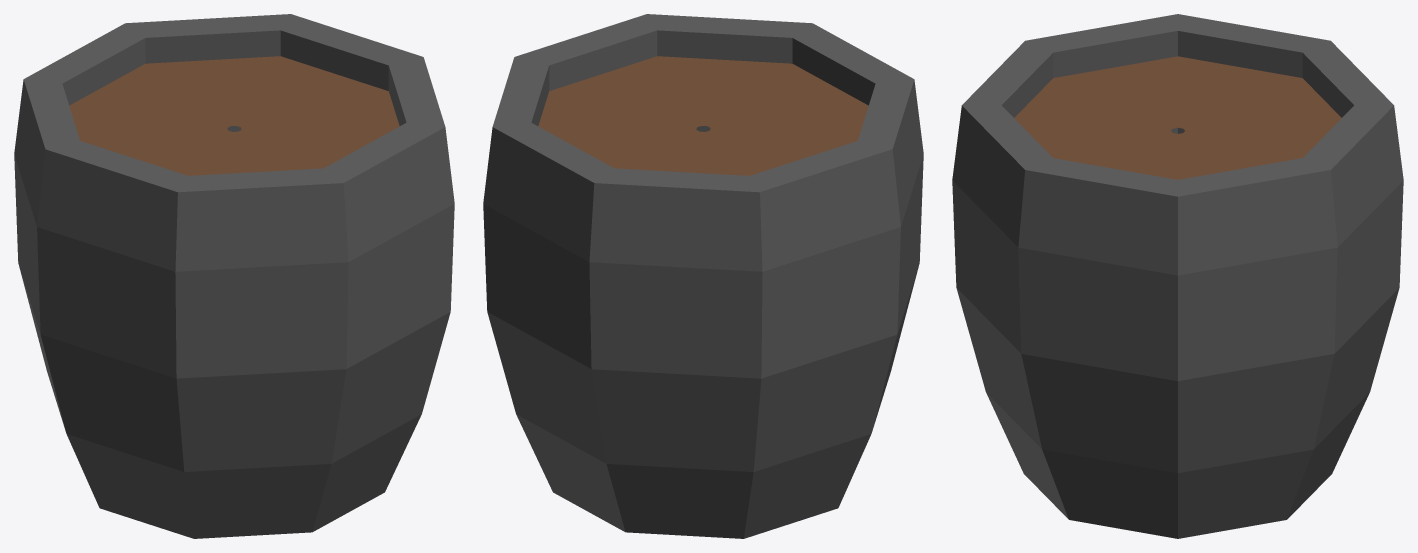
The model's file is Planta_Maceta_003.fbx.
The picture shows the model from 3 angles, left to right: view 1: azimuth 30°, elevation 25°; view 2: azimuth 150°, elevation 25°; view 3: azimuth 270°, elevation 25°; orthographic projection.
Visible parts, largest first — view 1: Maceta.001; view 2: Maceta.001; view 3: Maceta.001.
Part boxes in pixels (bbox=[...]): Maceta.001: bbox=[14, 14, 454, 538]; Maceta.001: bbox=[483, 14, 923, 538]; Maceta.001: bbox=[952, 14, 1403, 538].
Size of the model in its own units: 47.86 by 43.1 by 47.86.
2 materials, 2 textured.
